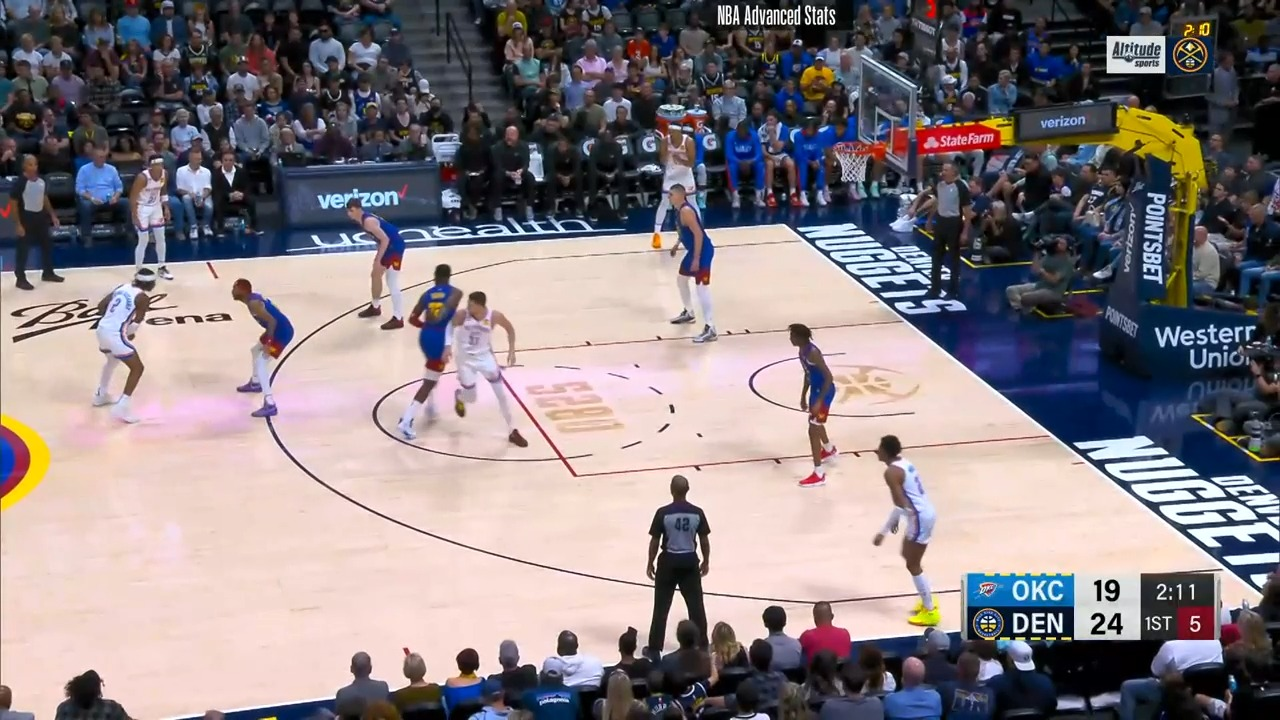net: (828, 136, 887, 187)
player: (419, 292, 523, 457), (862, 435, 937, 632), (90, 267, 170, 431), (404, 260, 471, 437), (785, 320, 848, 488), (230, 275, 300, 426), (348, 198, 413, 333), (670, 183, 723, 344), (655, 121, 706, 268), (127, 156, 175, 287)
referee: (646, 473, 721, 654), (7, 155, 60, 297), (926, 162, 975, 307)
